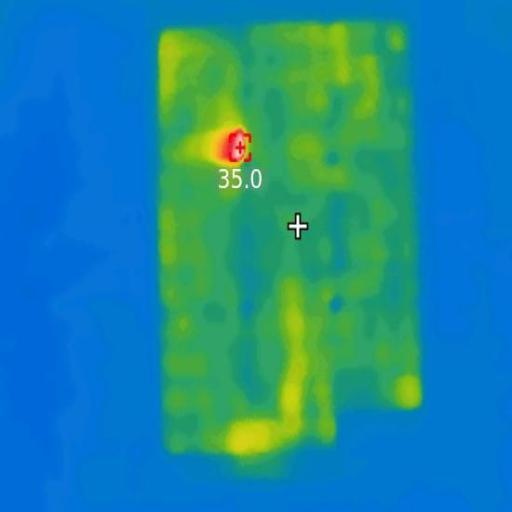hotspot: (213, 120, 257, 173)
